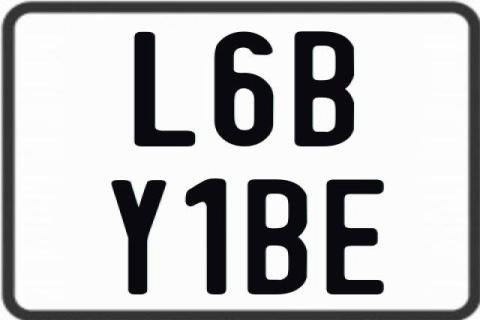0: (212, 31, 272, 149), (184, 178, 225, 294)
B: (295, 30, 360, 148), (247, 177, 306, 295)
E: (325, 180, 386, 298)
L: (134, 31, 200, 147)
Y: (110, 180, 166, 294)
